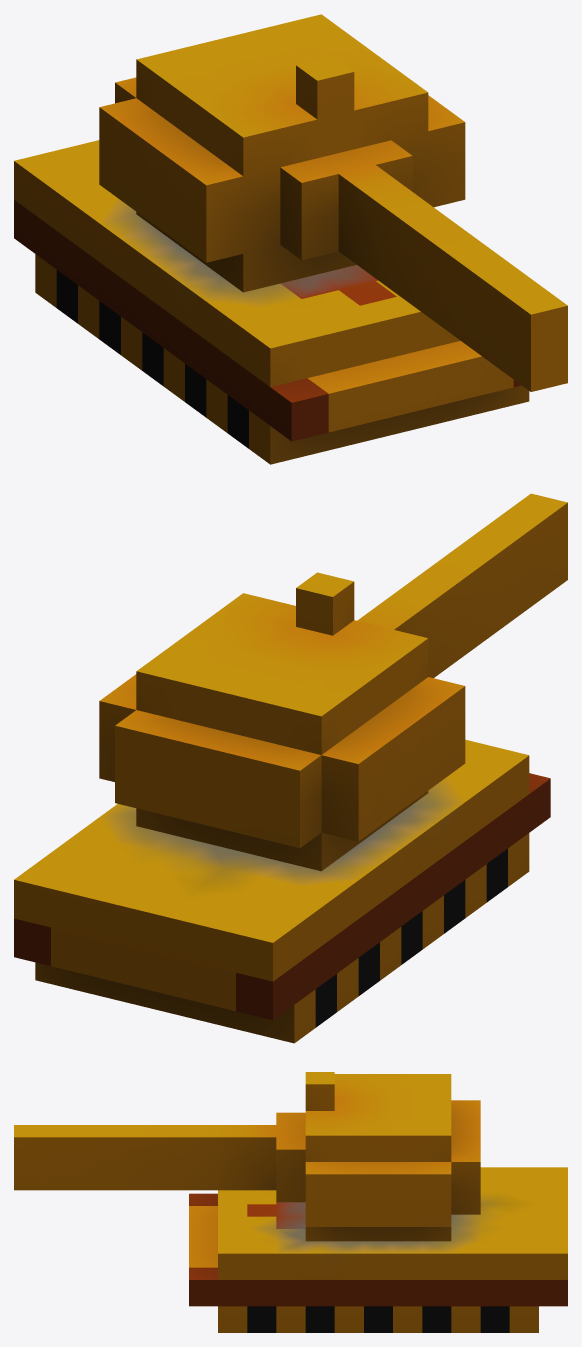
File: tank4.fbx
3 views of the same model, one above another, from view 1: azimuth 30°, elevation 25°; view 2: azimuth 150°, elevation 25°; view 3: azimuth 270°, elevation 25° (orthographic). The views are drawn at different scales.
Parts seen in each view (by area): view 1: -new2.bake, -new(004).bake; view 2: -new2.bake, -new(004).bake; view 3: -new2.bake, -new(004).bake.
Boxes of the visible parts, x1,y1,x2,y2 form: -new2.bake: (99,14,567,391); -new(004).bake: (14,140,529,464); -new2.bake: (99,493,567,871); -new(004).bake: (14,739,550,1043); -new2.bake: (14,1072,480,1241); -new(004).bake: (189,1167,567,1332).
Size of the model in its own units: 7 by 8 by 19.
